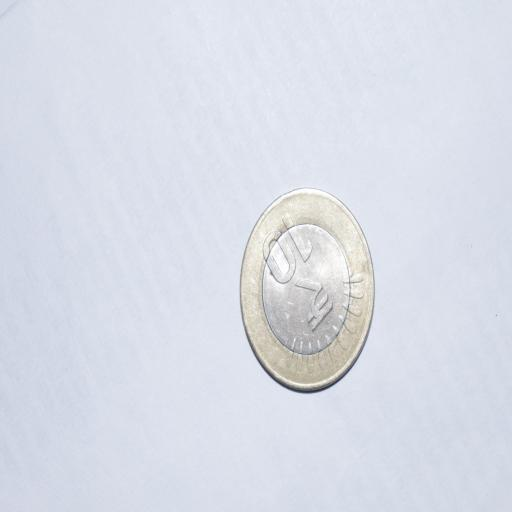rupee10: (238, 188, 374, 391)
